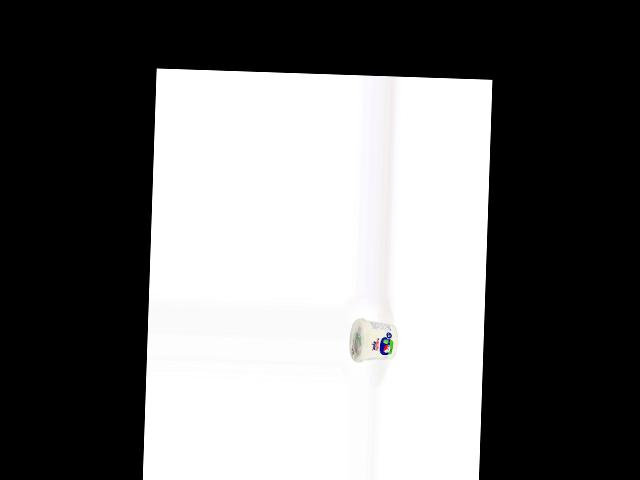cotage: (348, 317, 400, 365)
